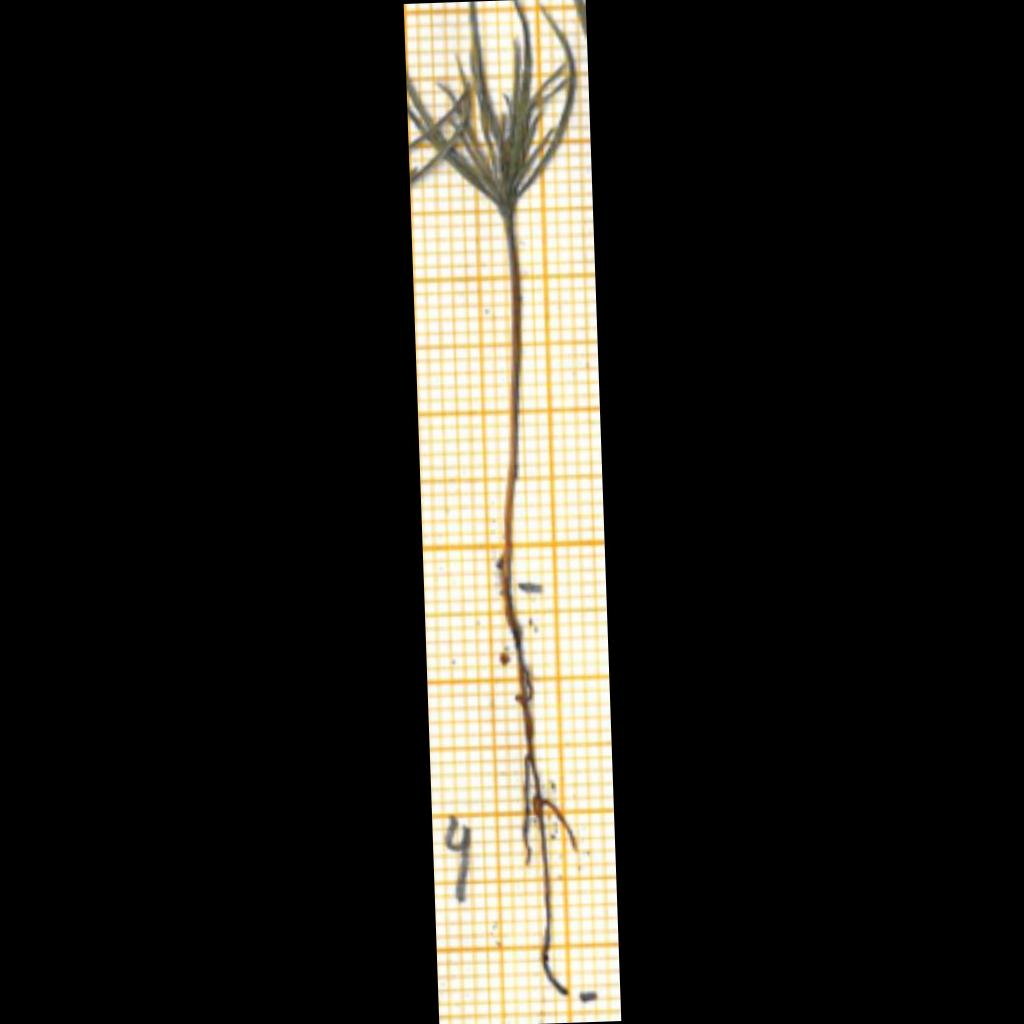flowerPinus: (407, 0, 574, 216)
rootPinus: (505, 587, 577, 996)
stemPinus: (504, 219, 522, 588)
